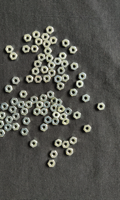nut: (46, 26, 54, 35), (41, 33, 50, 41), (69, 46, 78, 54), (38, 53, 46, 62), (57, 67, 66, 75), (76, 80, 84, 89), (47, 160, 56, 168), (33, 31, 41, 39), (24, 34, 32, 42), (50, 37, 58, 45), (35, 38, 43, 46), (31, 45, 39, 53), (6, 45, 14, 53), (10, 52, 18, 60), (22, 45, 30, 53), (59, 52, 67, 60), (34, 60, 42, 68), (61, 60, 69, 68), (71, 63, 79, 71), (79, 73, 87, 81), (48, 70, 56, 78), (41, 66, 49, 74), (32, 68, 40, 76), (62, 74, 70, 82), (43, 75, 51, 83), (26, 75, 34, 83), (57, 83, 65, 91), (70, 89, 78, 97), (98, 103, 106, 111), (12, 77, 20, 85), (5, 85, 13, 93), (47, 91, 55, 99), (40, 94, 48, 102), (43, 101, 51, 109), (58, 105, 66, 113), (64, 108, 72, 116), (74, 112, 82, 120), (84, 125, 92, 133), (1, 103, 9, 111), (11, 98, 19, 106), (9, 106, 17, 114), (21, 108, 29, 116), (5, 116, 13, 124), (12, 113, 20, 121), (4, 124, 12, 132), (12, 123, 20, 131), (21, 128, 29, 136), (60, 113, 68, 121), (44, 116, 52, 124), (40, 124, 48, 132), (30, 140, 38, 148), (62, 141, 70, 149), (70, 137, 78, 145), (66, 148, 74, 156), (50, 151, 58, 159), (63, 39, 70, 48), (55, 75, 62, 84), (34, 76, 43, 83), (83, 94, 90, 103), (52, 112, 61, 119), (55, 139, 62, 148), (43, 41, 51, 48), (44, 48, 52, 55), (46, 55, 54, 62), (54, 58, 62, 65), (48, 62, 56, 69), (20, 91, 28, 98), (51, 97, 58, 105), (56, 99, 63, 107), (36, 101, 43, 109), (31, 96, 38, 104), (50, 105, 58, 112), (25, 101, 32, 109), (17, 101, 25, 108), (34, 108, 41, 116), (41, 108, 48, 116), (23, 118, 31, 125), (62, 118, 70, 125), (52, 118, 60, 125), (0, 112, 6, 120), (0, 120, 5, 128), (0, 130, 5, 137)
